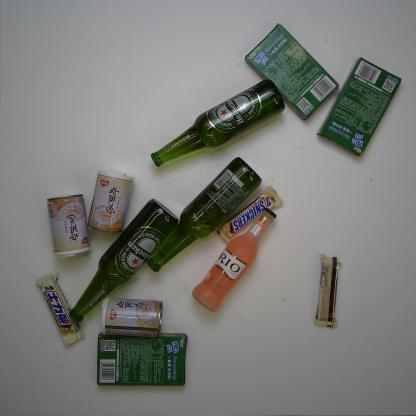Alcohol: (66, 199, 179, 324), (144, 155, 263, 273), (149, 78, 286, 168), (192, 209, 278, 312)
Canned Food: (87, 166, 135, 234), (45, 192, 92, 259), (100, 294, 163, 338)
Chocolate: (32, 270, 88, 350), (214, 186, 283, 244), (312, 253, 344, 330)
Dessert: (244, 24, 340, 121), (318, 58, 402, 158), (95, 334, 188, 388)
